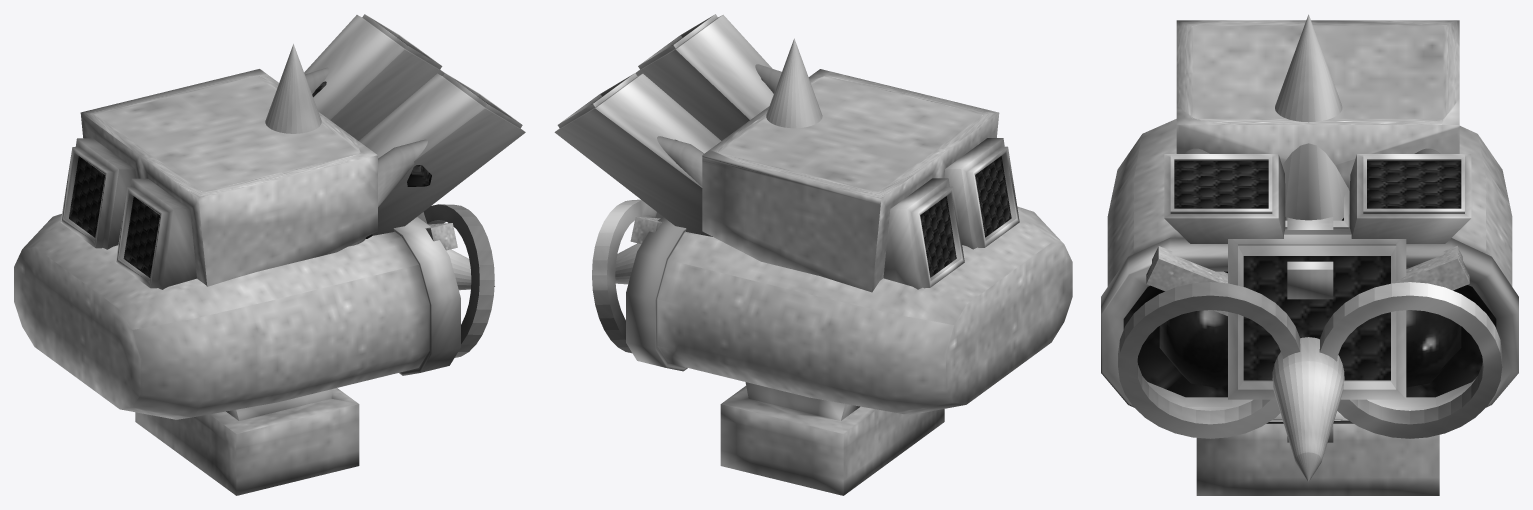
File: avatar.glb
3 renders of one model, left to right at view 1: azimuth 30°, elevation 25°; view 2: azimuth 150°, elevation 25°; view 3: azimuth 270°, elevation 25°, orthographic. The views are drawn at different scales.
Visible parts, largest first — view 1: body_default_default, head_default_default, body_back_2, head_face_4, head_top_3, head_top_5, head_face_3, head_face_5; view 2: body_default_default, head_default_default, body_back_2, head_face_4, head_top_3, head_top_5, head_face_3; view 3: body_default_default, head_default_default, head_face_4, body_back_2, body_back_1, head_top_3, head_face_3, head_face_5, hand_default_default.
Part boxes in pixels (box(x1,y1,x2,y2)): body_default_default: box(60, 69, 377, 495); head_default_default: box(14, 214, 460, 419); body_back_2: box(304, 14, 525, 235); head_face_4: box(423, 204, 494, 357); head_top_3: box(265, 44, 321, 133); head_top_5: box(305, 67, 427, 246); head_face_3: box(446, 249, 494, 290); head_face_5: box(425, 223, 457, 250); body_default_default: box(702, 69, 1019, 495); head_default_default: box(626, 206, 1072, 415); body_back_2: box(554, 14, 773, 236); head_face_4: box(592, 199, 656, 353); head_top_3: box(766, 38, 822, 128); head_top_5: box(657, 64, 781, 186); head_face_3: box(615, 243, 641, 284); body_default_default: box(1176, 20, 1459, 495); head_default_default: box(1101, 119, 1518, 423); head_face_4: box(1118, 282, 1502, 438); body_back_2: box(1164, 154, 1471, 243); body_back_1: box(1228, 227, 1406, 399); head_top_3: box(1275, 14, 1349, 220); head_face_3: box(1272, 337, 1344, 481); head_face_5: box(1146, 246, 1469, 315); hand_default_default: box(1287, 217, 1333, 442).
Size of the model in its own units: 1.36 by 1.22 by 0.9826.
1 material, 1 textured.
